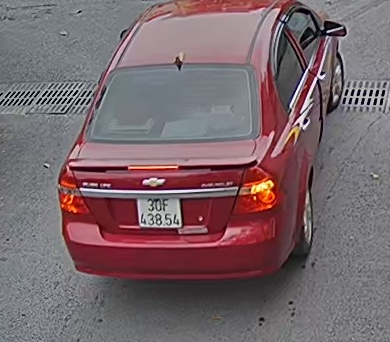vehicle plate: (135, 189, 189, 227)
